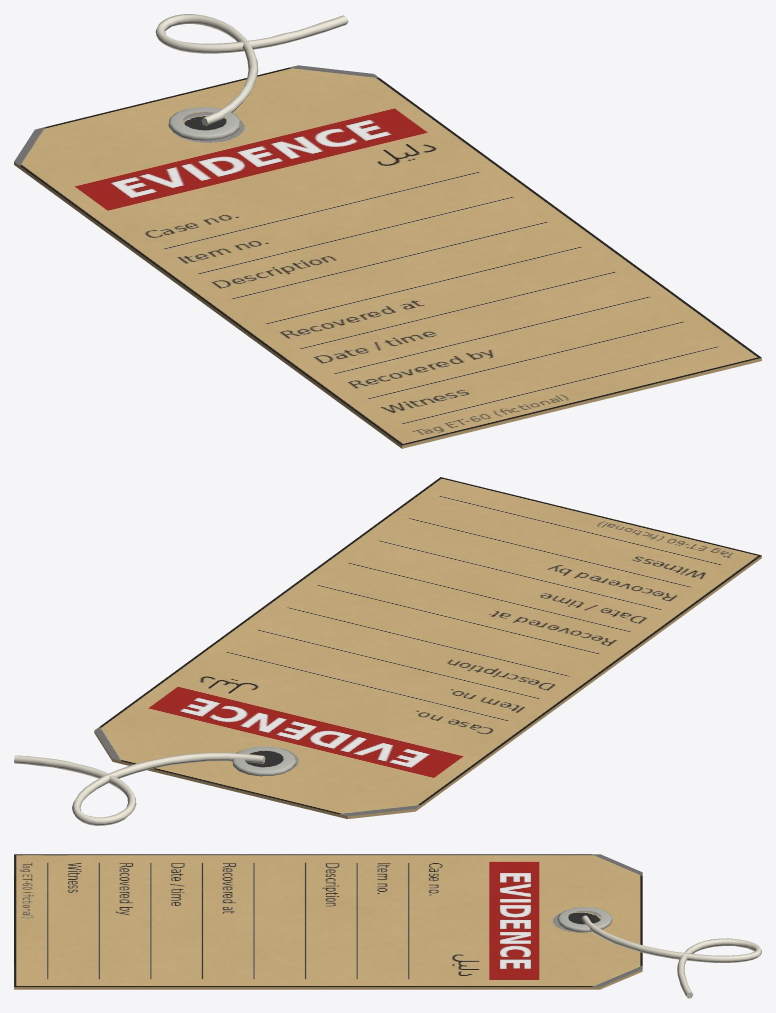
File: EvidenceTag.obj
3 renders of one model, top to bottom at view 1: azimuth 30°, elevation 25°; view 2: azimuth 150°, elevation 25°; view 3: azimuth 270°, elevation 25°, orthographic. The views are drawn at different scales.
Parts seen in each view (by area): view 1: Tag, String, Eyelet; view 2: Tag, String, Eyelet; view 3: Tag, String, Eyelet.
Part boxes in pixels (<box>): Tag: <box>14,65,761,448</box>; String: <box>155,14,348,125</box>; Eyelet: <box>168,107,239,140</box>; Tag: <box>94,477,761,819</box>; String: <box>14,752,265,825</box>; Eyelet: <box>232,746,296,776</box>; Tag: <box>14,854,642,989</box>; String: <box>581,915,761,998</box>; Eyelet: <box>557,907,612,932</box>.
Size of the model in its own units: 0.0652 by 0.0023 by 0.1428.
Materials: 3 (1 with a texture image).
